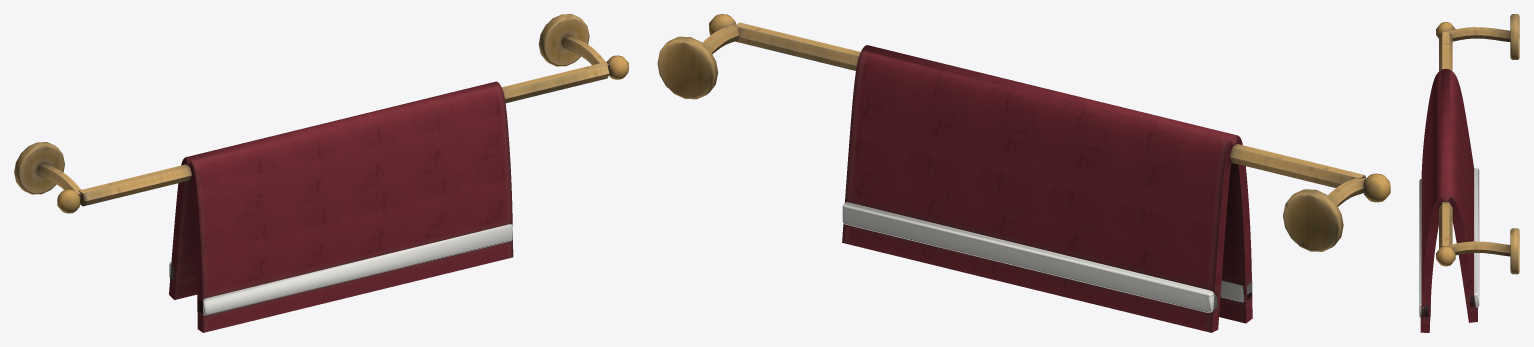
The model's file is TowelRail.fbx.
3 views of the same model, side by side, from view 1: azimuth 30°, elevation 25°; view 2: azimuth 150°, elevation 25°; view 3: azimuth 270°, elevation 25° (orthographic). The views are drawn at different scales.
Parts seen in each view (by area): view 1: TowelRail; view 2: TowelRail; view 3: TowelRail.
Part boxes in pixels (x1,y1,x2,y2): TowelRail: [14, 14, 628, 332]; TowelRail: [657, 14, 1390, 332]; TowelRail: [1419, 14, 1519, 332].
Bounding box in the file's own units: 240 × 70.07 × 43.5.
